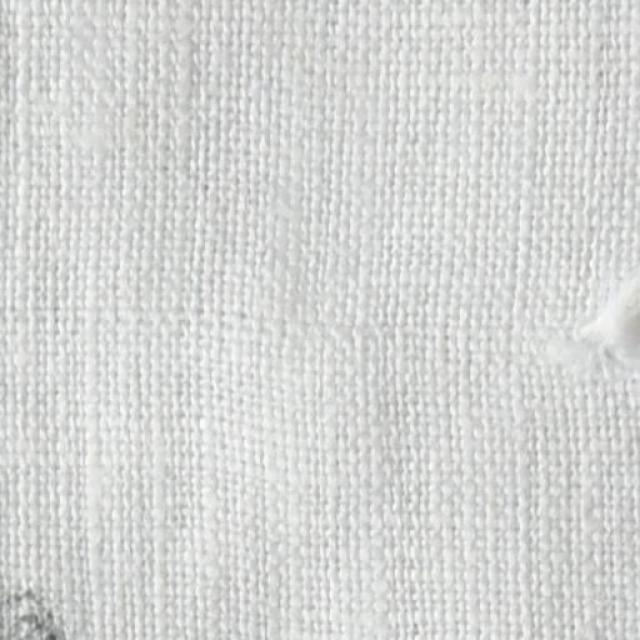Stain: (555, 255, 639, 370), (0, 588, 61, 639)
